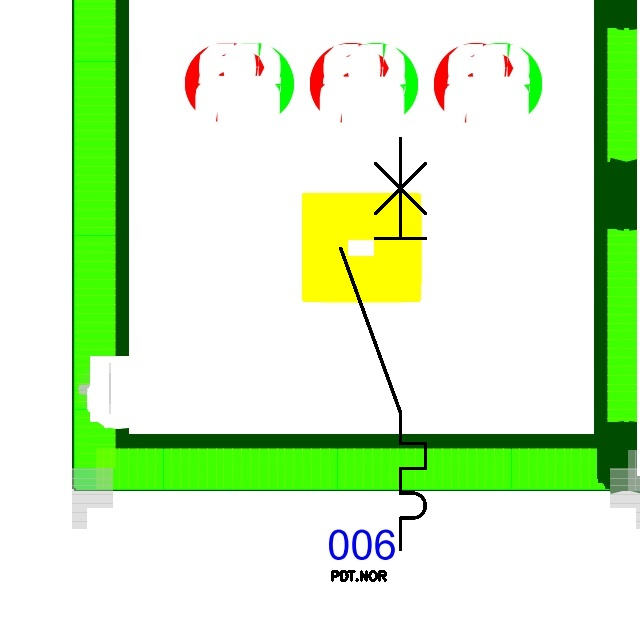interruptor_termomagnetico: (330, 128, 436, 560)
